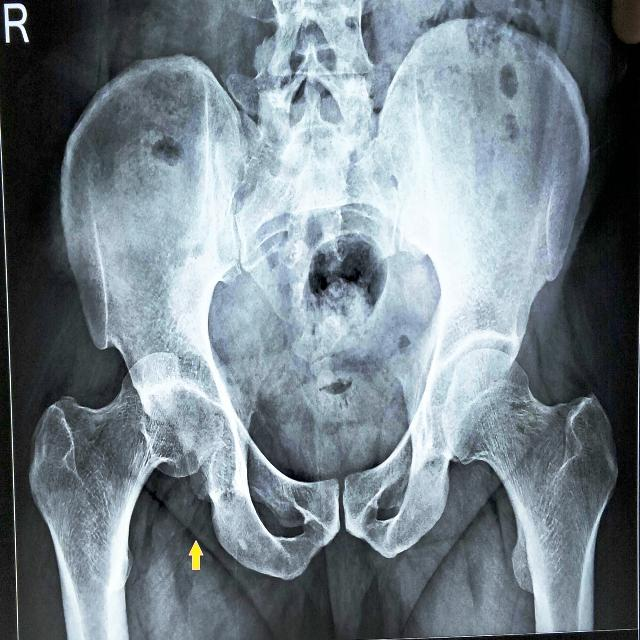Fracture Dislocation: (172, 449, 214, 496)
